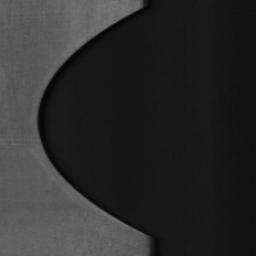Crescent gap: (37, 8, 147, 235)
